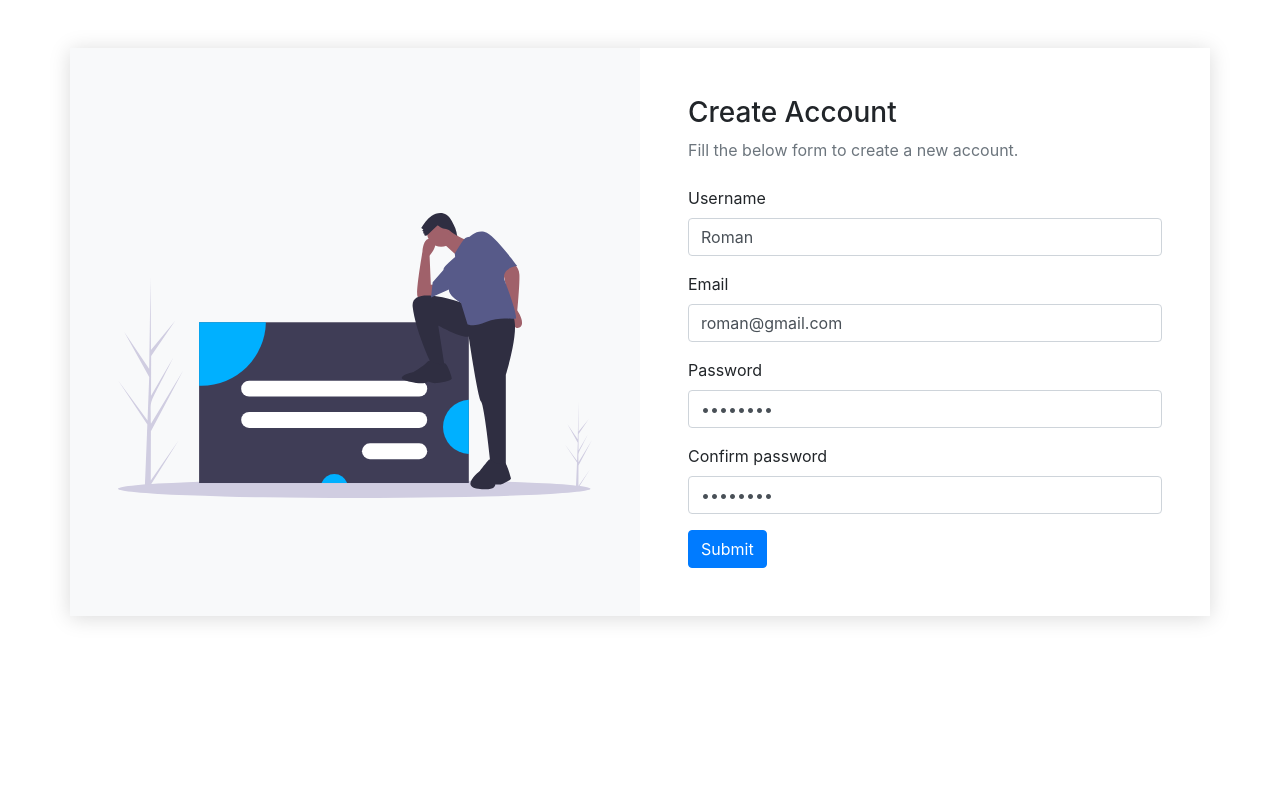
SignUp form › submits correct values
This screenshot has width=1280, height=800.
Step 1. Replace the text in the field named "username" with "username" → (925, 237), box [688,218,1162,256]
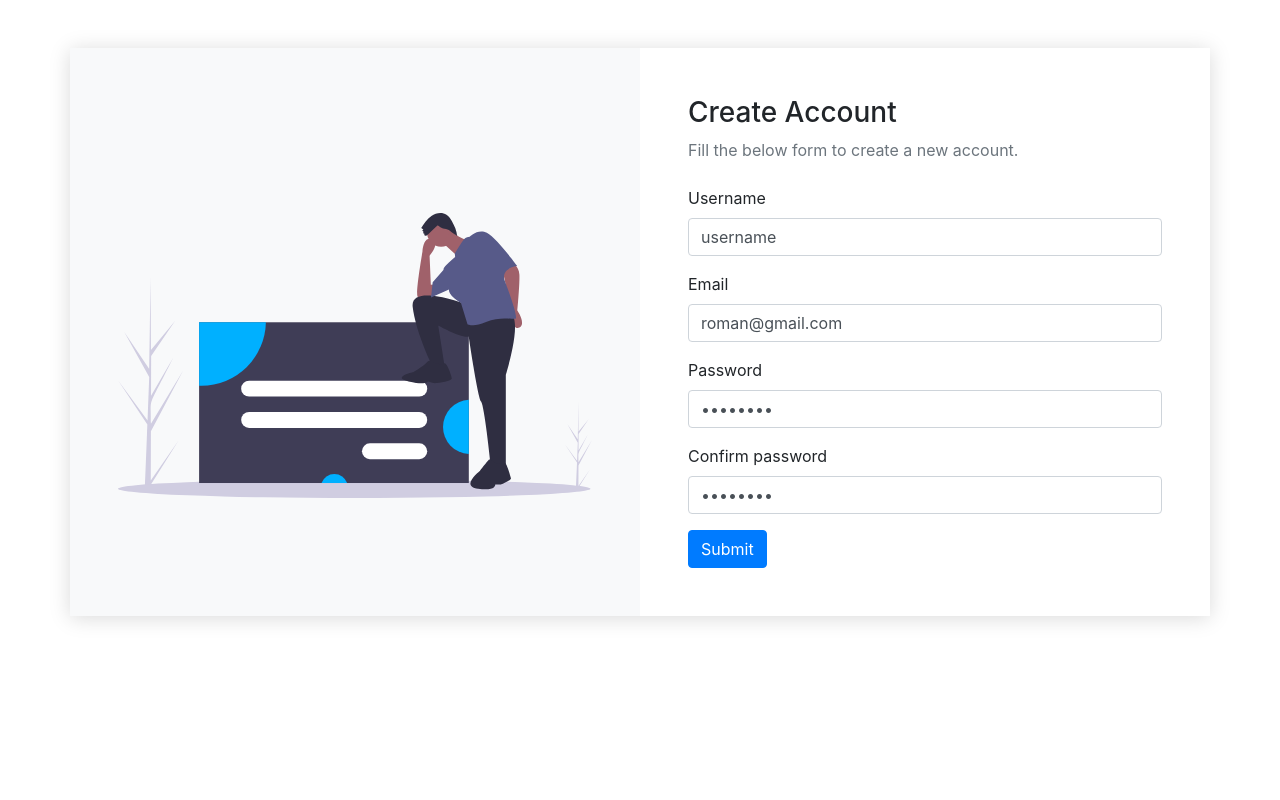
Step 2. Replace the text in the field named "email" with "mock@email.com" → (925, 323), box [688,304,1162,342]
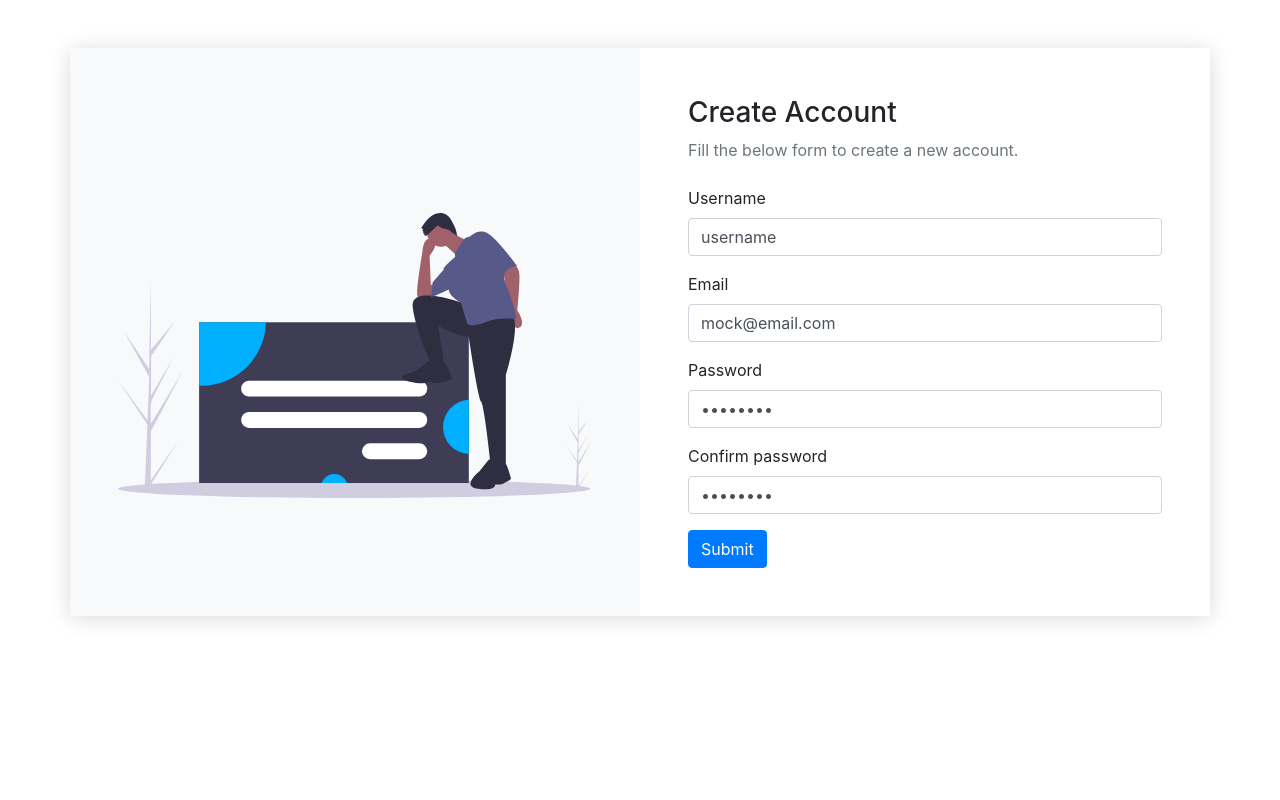
Step 3. Type "1234567890" into the password field named "password" → (925, 409), box [688,390,1162,428]
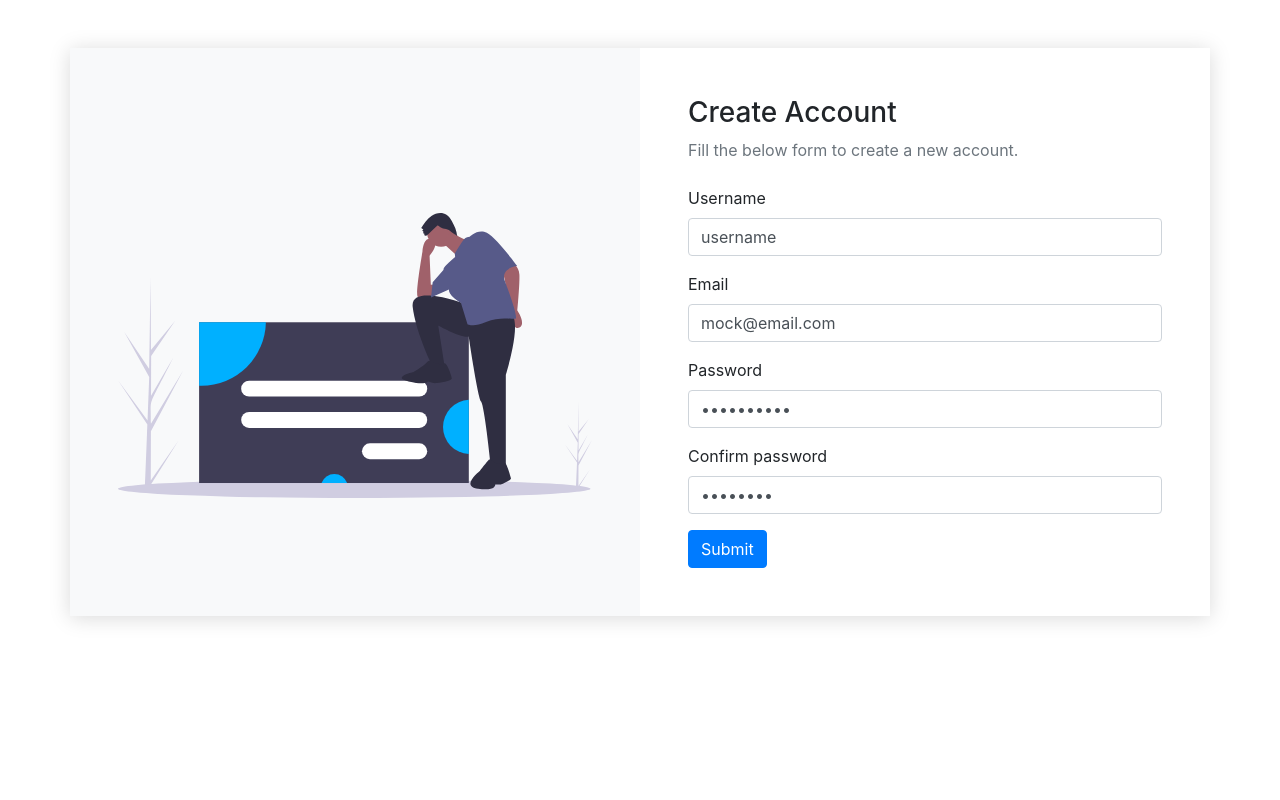
Step 4. Type "1234567890" into the password field named "confirmPassword" → (925, 495), box [688,476,1162,514]
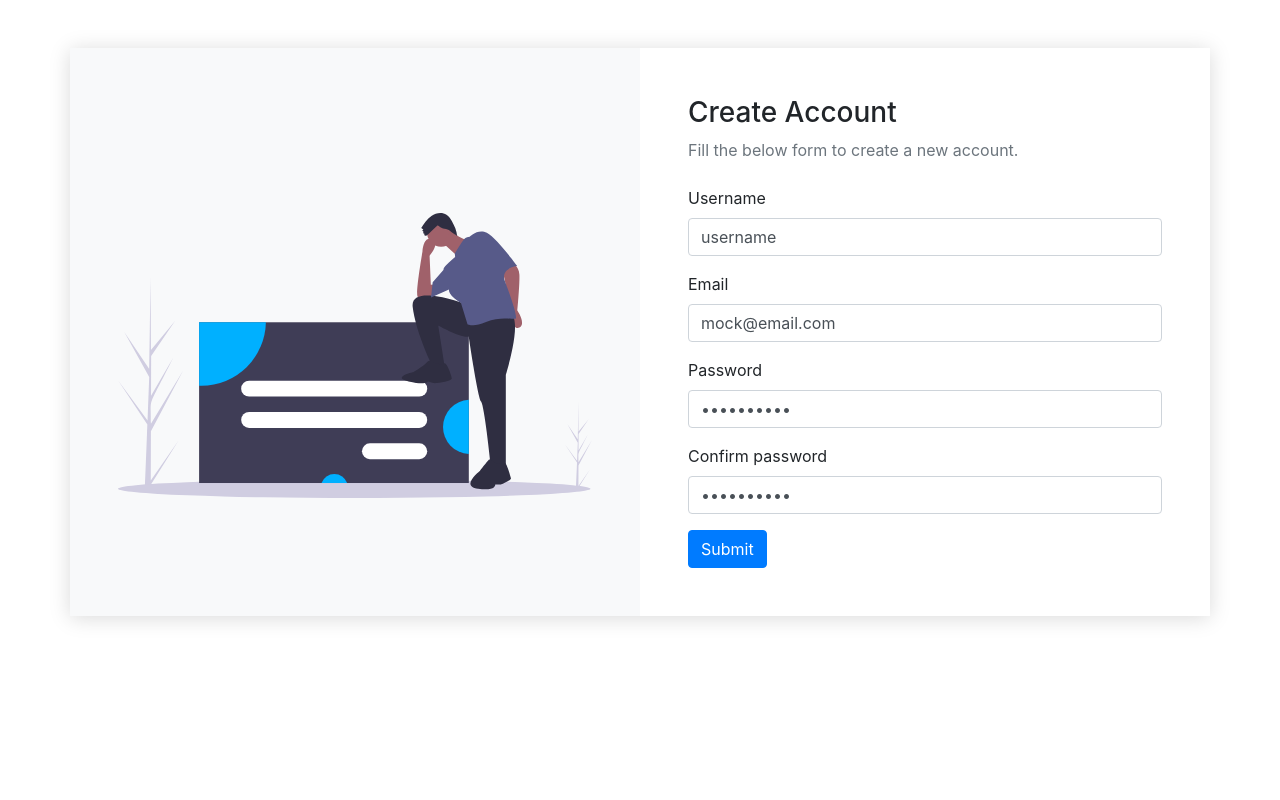
Step 5. Click the submit button → (727, 549), box [688,530,767,568]
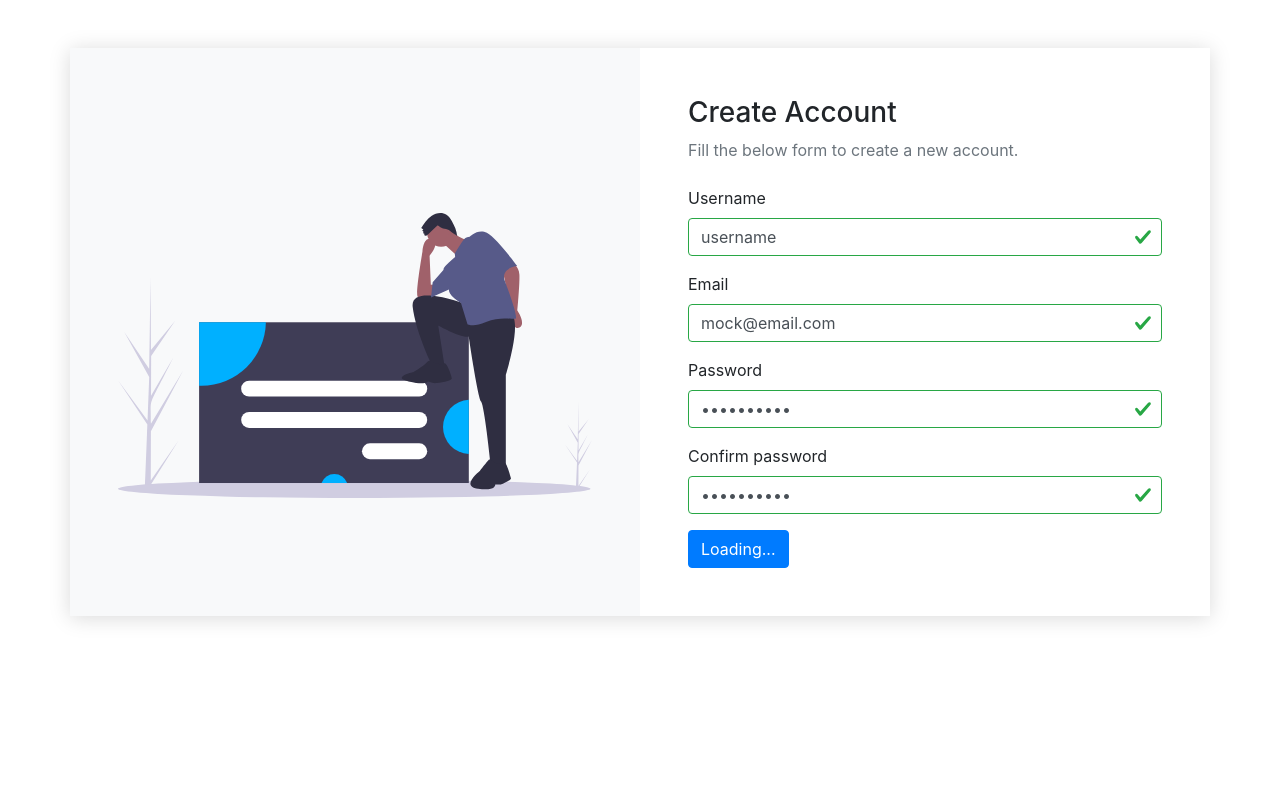
Check: the submit button reads "Loading...", box [688,530,788,568]
